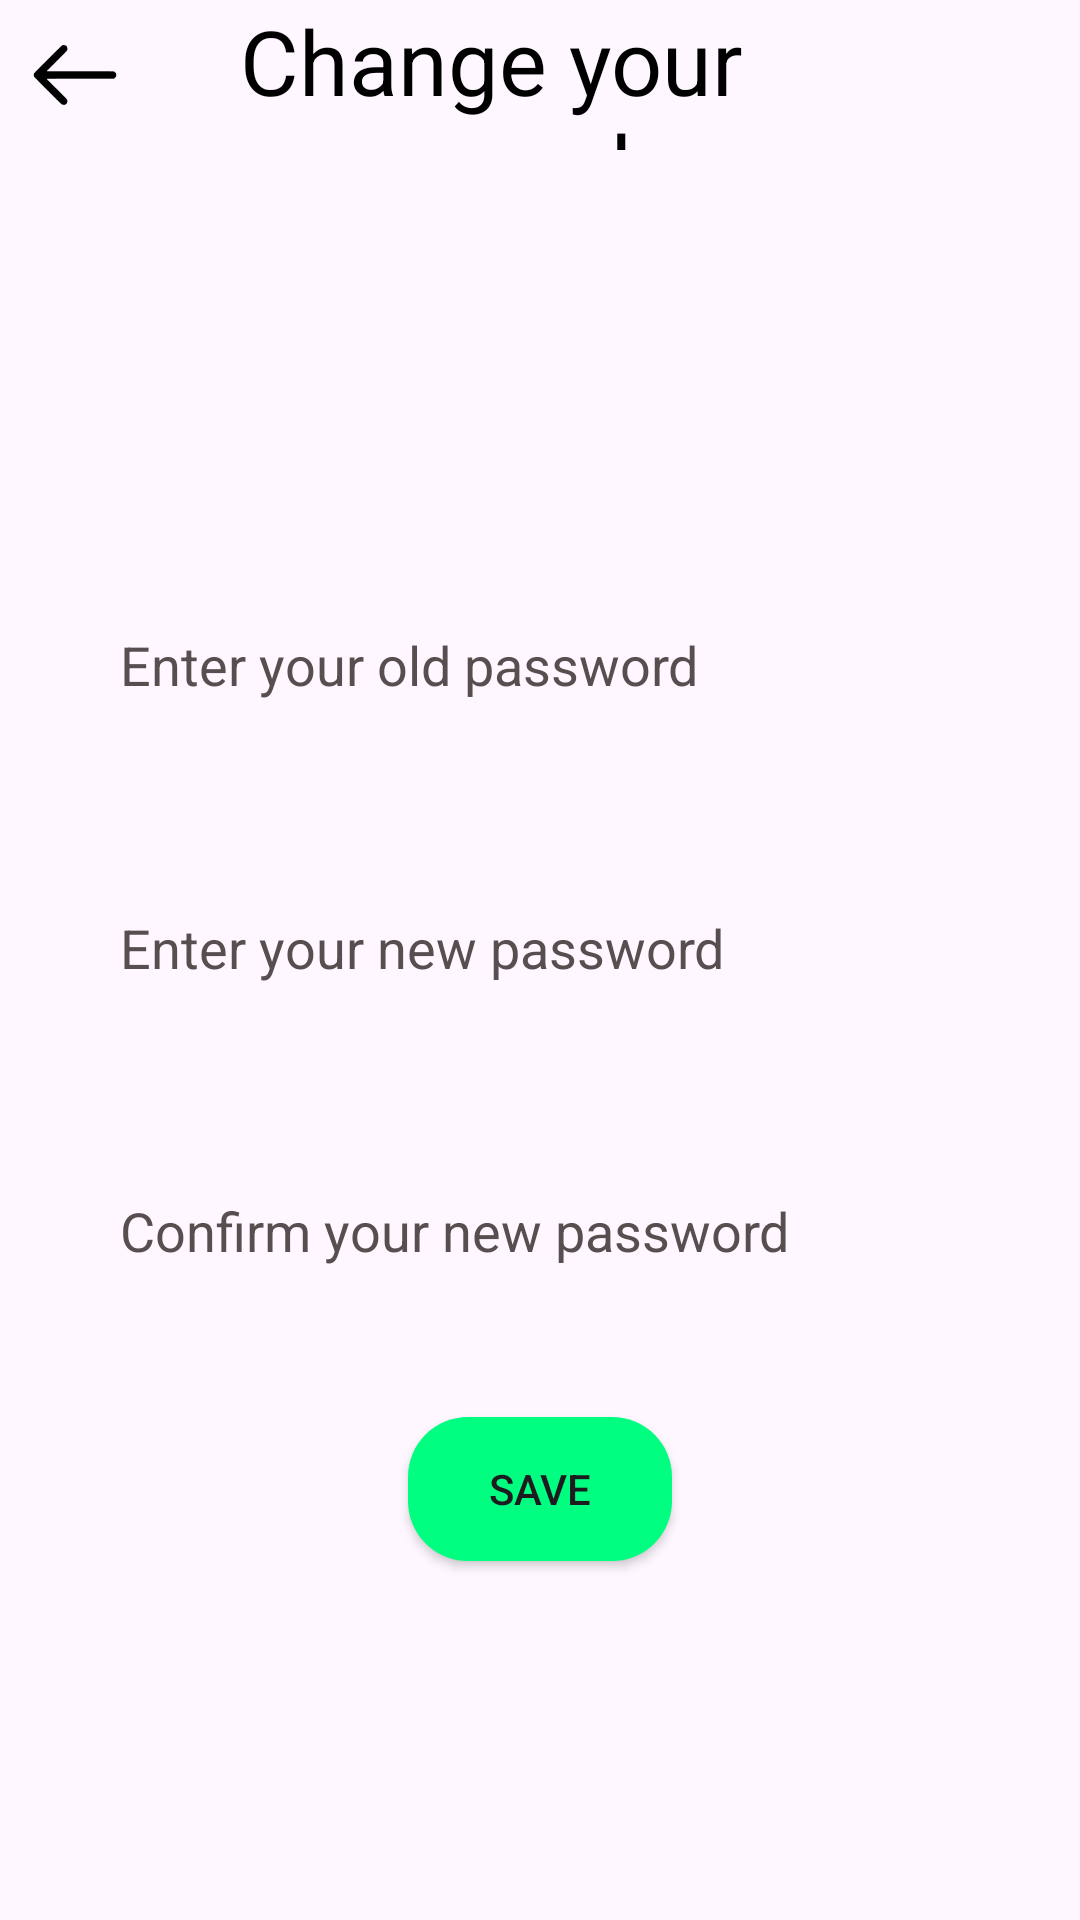

Icon click points for this 1080px x 1920px phone screenshot, format [x,y]:
Go back: [75,75]
